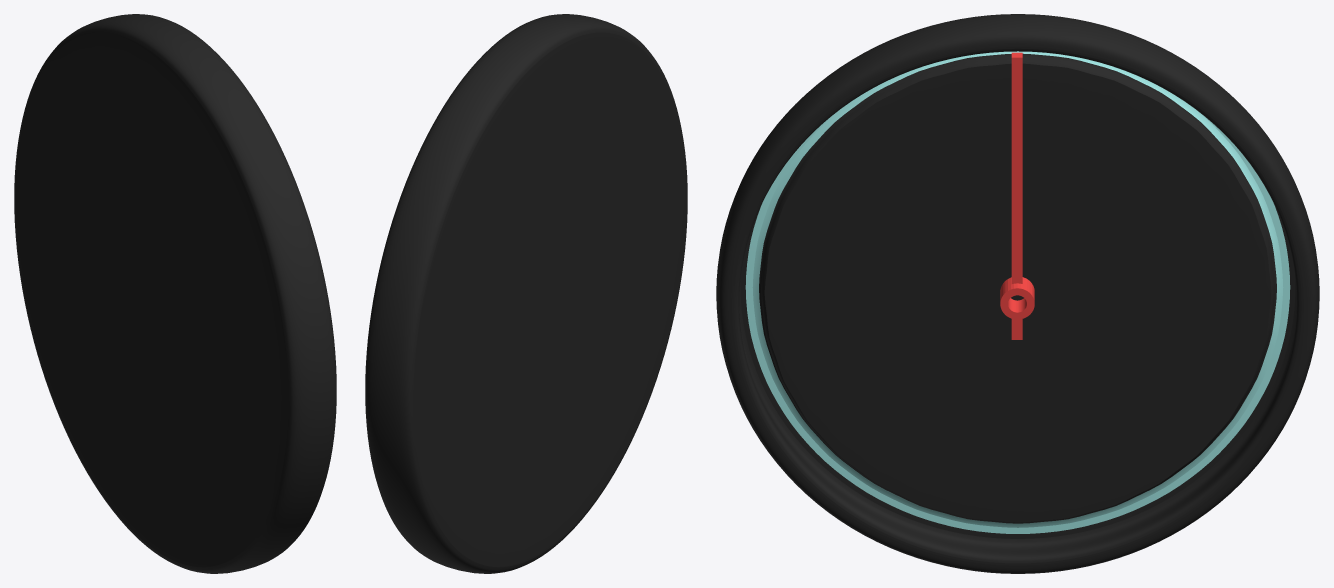
The model's file is 策划要的clock.fbx.
3 renders of one model, left to right at view 1: azimuth 30°, elevation 25°; view 2: azimuth 150°, elevation 25°; view 3: azimuth 270°, elevation 25°, orthographic. The views are drawn at different scales.
Parts seen in each view (by area): view 1: 柱体.001; view 2: 柱体.001; view 3: 柱体.001, Mesh725.002.
Boxes of the visible parts, x1,y1,x2,y2 form: 柱体.001: (14, 14, 336, 573); 柱体.001: (365, 14, 687, 573); 柱体.001: (716, 14, 1319, 573); Mesh725.002: (1000, 52, 1034, 339).
Bounding box in the file's own units: 85.72 × 884 × 884.
